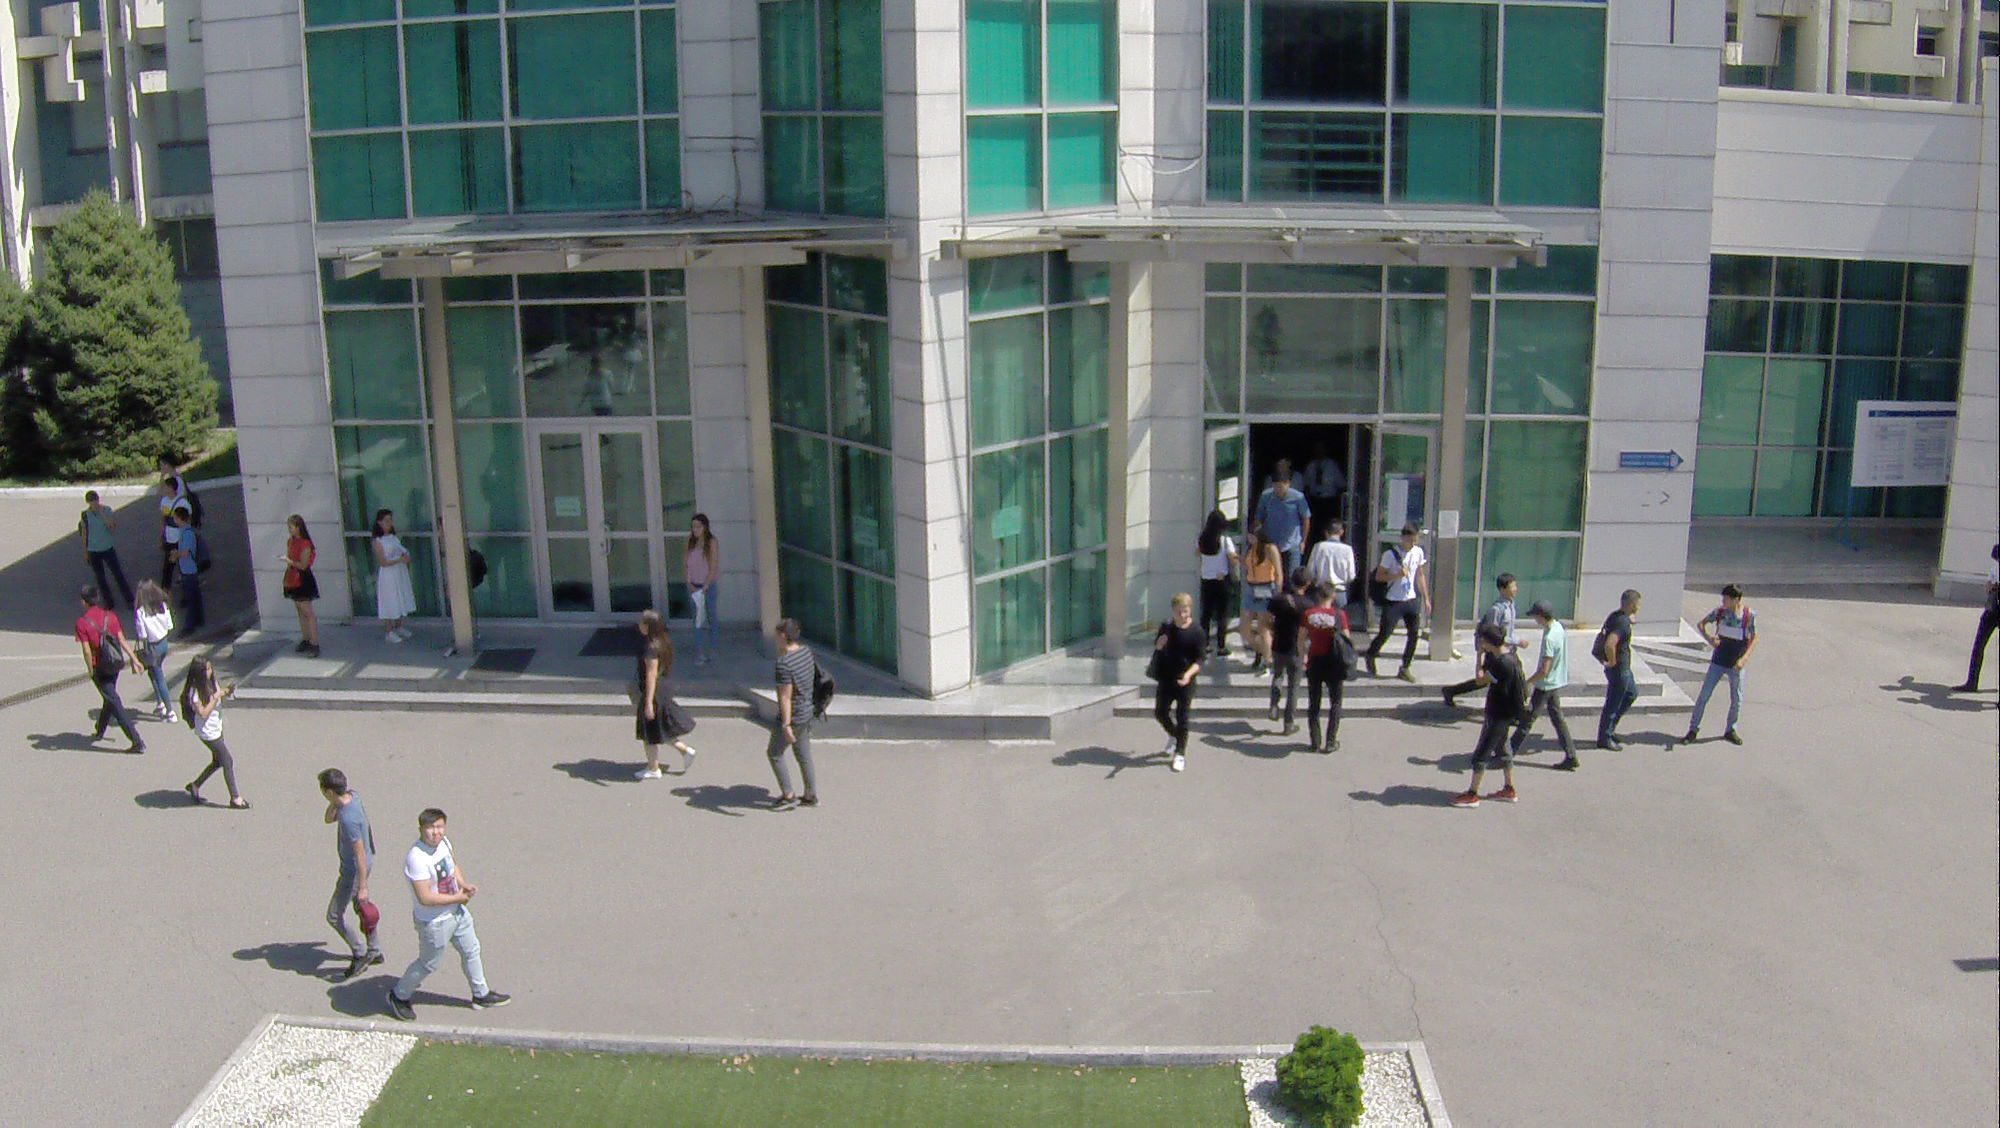person: (378, 804, 511, 1031), (749, 616, 842, 816), (309, 763, 388, 991), (163, 654, 256, 817), (621, 608, 701, 796), (1681, 579, 1764, 751), (63, 582, 141, 760), (1457, 624, 1523, 816), (1145, 589, 1206, 784), (1367, 522, 1435, 683), (1524, 601, 1582, 780), (1592, 590, 1647, 762), (1304, 582, 1354, 758), (676, 510, 726, 670), (1191, 507, 1244, 660), (364, 506, 420, 650), (72, 489, 135, 613), (1269, 564, 1313, 736), (131, 576, 179, 731), (278, 509, 322, 670), (1233, 527, 1276, 681), (166, 506, 216, 635), (1251, 471, 1307, 552), (1311, 517, 1356, 594), (1489, 576, 1521, 635)
